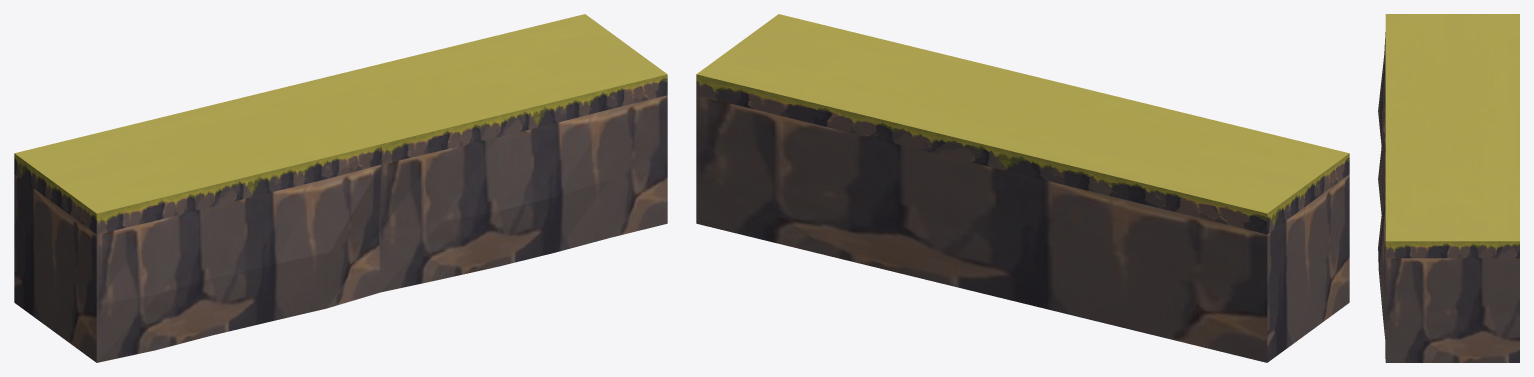
File: SM_RC_Terrain_Cliff_16x4.gltf
The picture shows the model from 3 angles, left to right: view 1: azimuth 30°, elevation 25°; view 2: azimuth 150°, elevation 25°; view 3: azimuth 270°, elevation 25°; orthographic projection. The views are drawn at different scales.
Visible parts, largest first — view 1: SM_RC_Terrain_Cliff_16x4; view 2: SM_RC_Terrain_Cliff_16x4; view 3: SM_RC_Terrain_Cliff_16x4.
Part boxes in pixels (<box>): SM_RC_Terrain_Cliff_16x4: <box>14,14,667,362</box>; SM_RC_Terrain_Cliff_16x4: <box>696,14,1349,362</box>; SM_RC_Terrain_Cliff_16x4: <box>1378,14,1519,362</box>.
Size of the model in its own units: 16 by 4 by 4.22.
Materials: 1 (1 with a texture image).
